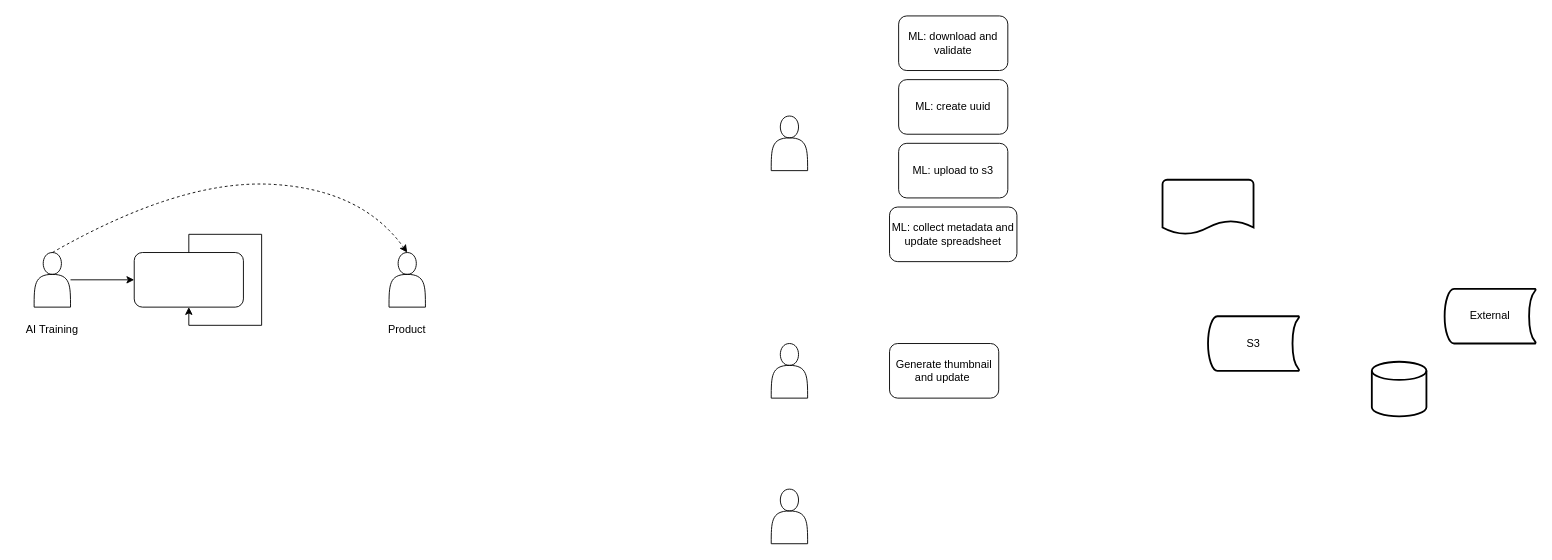
The diagram is 1552 pixels wide and 560 high, and some of its shapes have lost their labels. Each missing label, with the centre of its shape:
"DB" belongs at (1398,388).
"LoRA Spreadsheet" belongs at (1207,206).
"Test on ComfyUI" belongs at (188,279).
